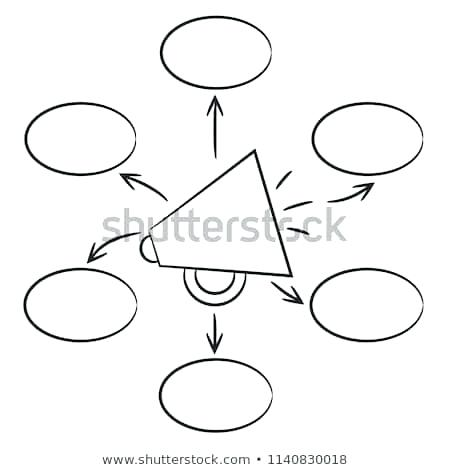circle: (155, 356, 277, 435), (307, 265, 426, 345), (22, 265, 139, 345), (22, 100, 139, 179), (158, 13, 275, 92), (310, 99, 426, 178)
line: (85, 229, 141, 266), (116, 170, 170, 205), (323, 179, 377, 209), (204, 91, 224, 160), (266, 279, 305, 307), (204, 311, 226, 356), (282, 197, 315, 212), (273, 168, 294, 190), (286, 223, 310, 239)
